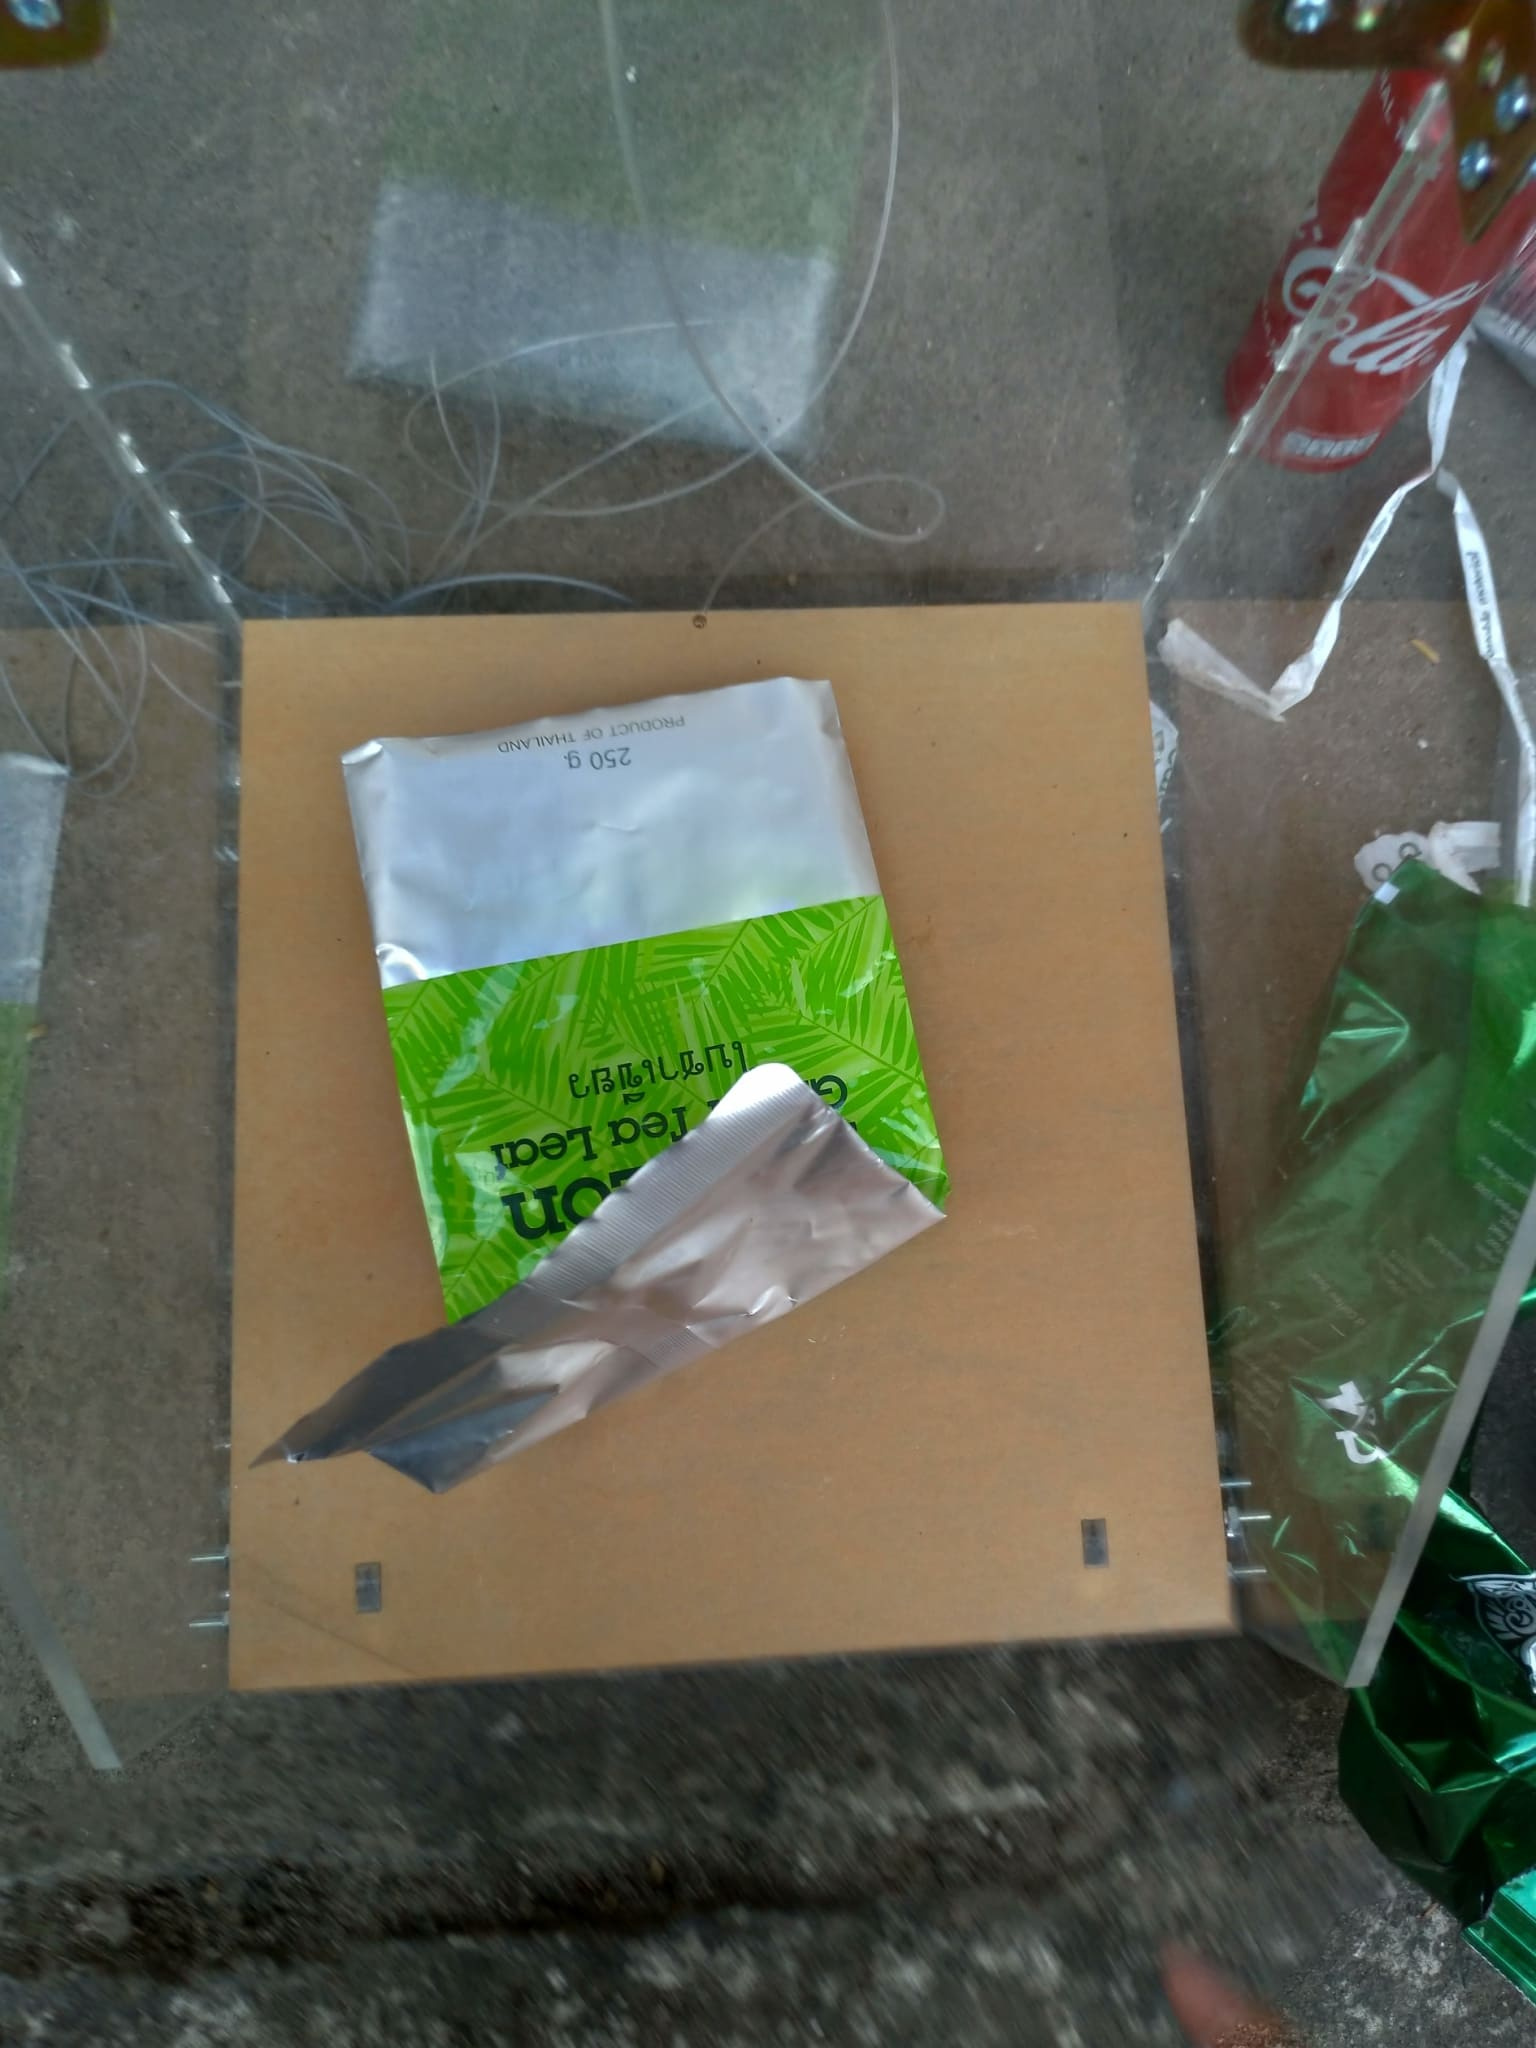AlCan: (1221, 31, 1534, 461)
Others: (244, 669, 963, 1495), (1213, 868, 1536, 2000), (1167, 455, 1536, 913)
